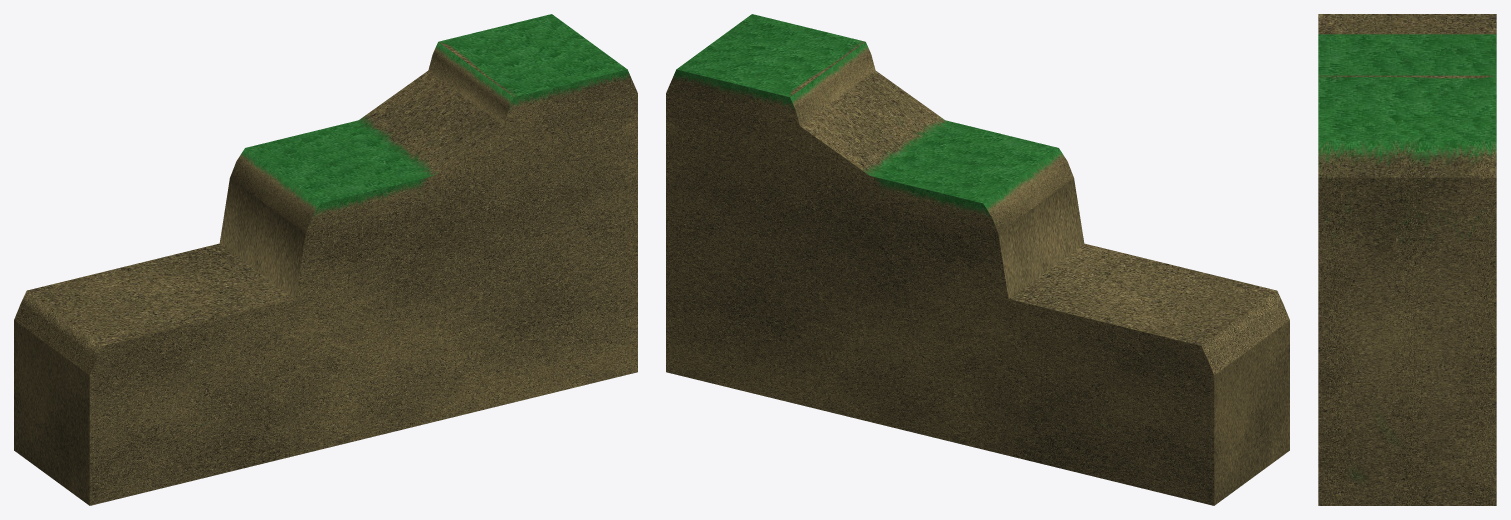
The model's file is Hill_10 - Transition to puzzle 4.fbx.
3 renders of one model, left to right at view 1: azimuth 30°, elevation 25°; view 2: azimuth 150°, elevation 25°; view 3: azimuth 270°, elevation 25°, orthographic. The views are drawn at different scales.
Visible parts, largest first — view 1: pCube14; view 2: pCube14; view 3: pCube14.
Boxes of the visible parts, bbox=[...] form: pCube14: bbox=[14, 14, 637, 505]; pCube14: bbox=[666, 14, 1289, 505]; pCube14: bbox=[1318, 14, 1496, 505].
Size of the model in its own units: 3758 by 2000 by 900.
